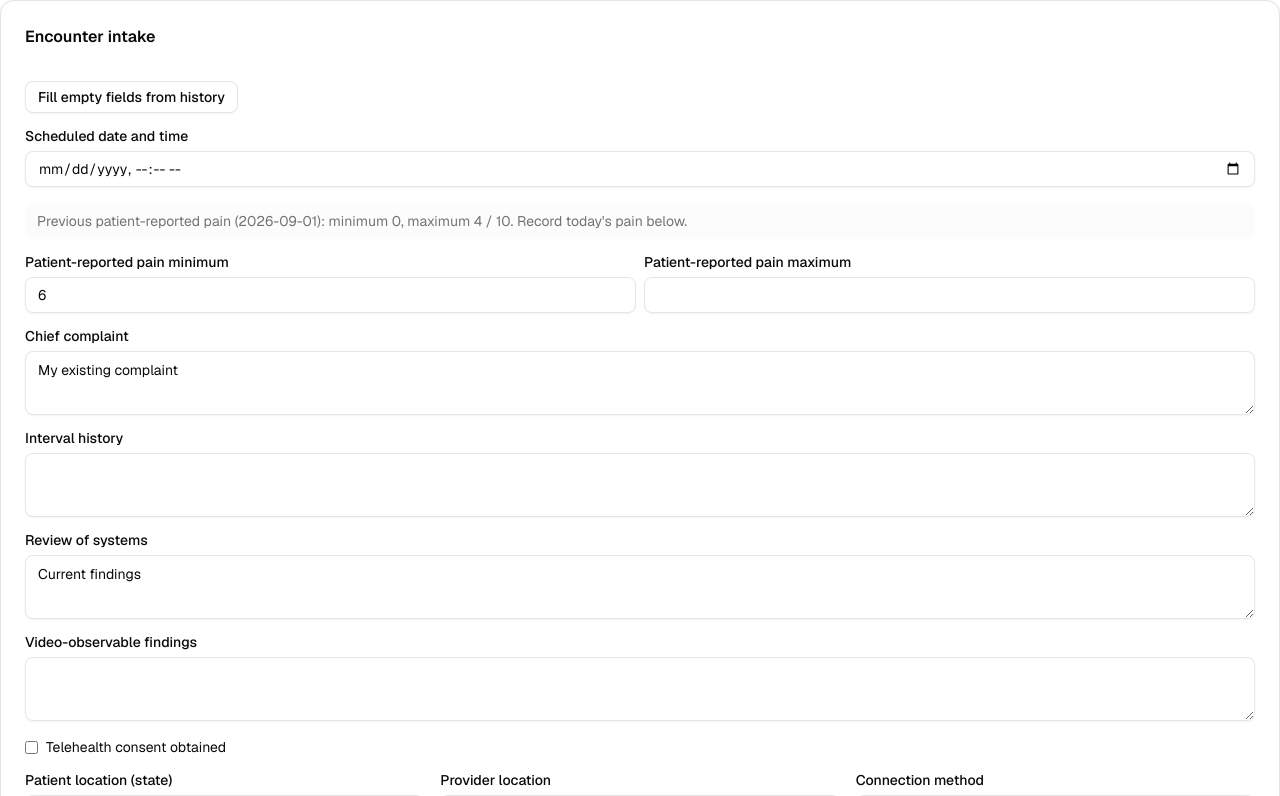
Test case: historical follow-up intake › explicitly fills only empty fields, preserving saved findings and requiring review without saving
Click the button "Fill empty fields from history": x=132, y=97 [25,81,238,113]
(page scrolled)
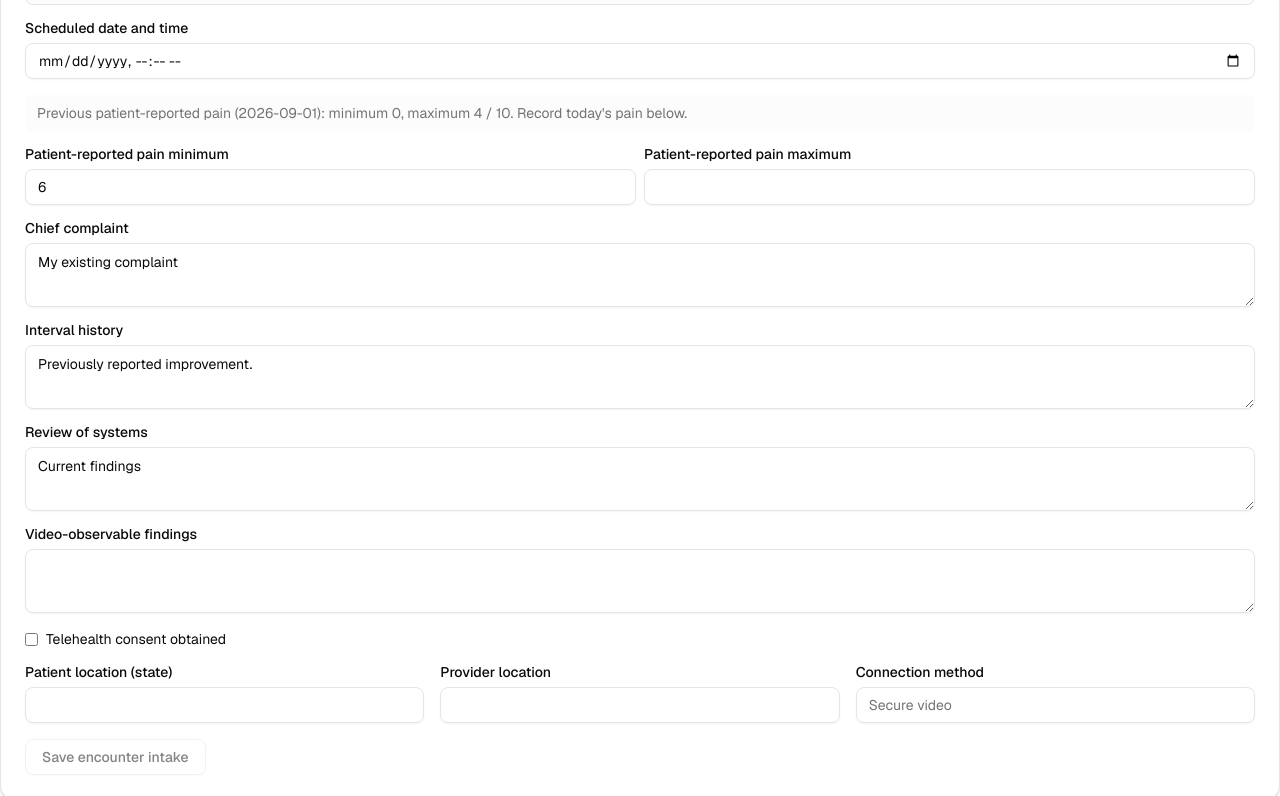
Expected: the text box labelled "Chief complaint" holds "My existing complaint", [25,243,1255,307]
Result: the text box labelled "Interval history" holds "Previously reported improvement." at [25,345,1255,409]
Result: the button "Save encounter intake" is disabled at [25,739,206,775]
